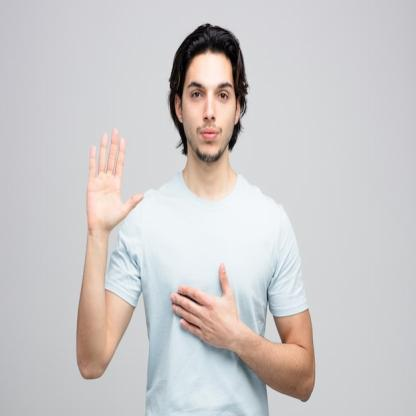stop: (84, 126, 146, 238)
